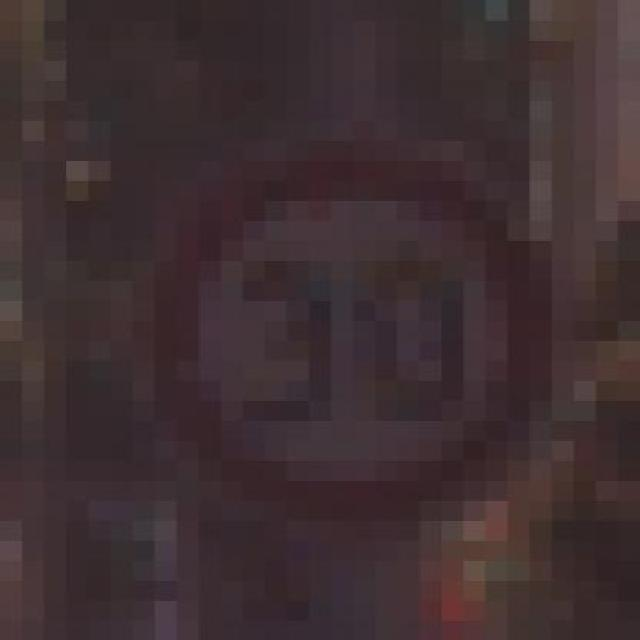Speed Limit 30 KMPh: (89, 100, 596, 540)
